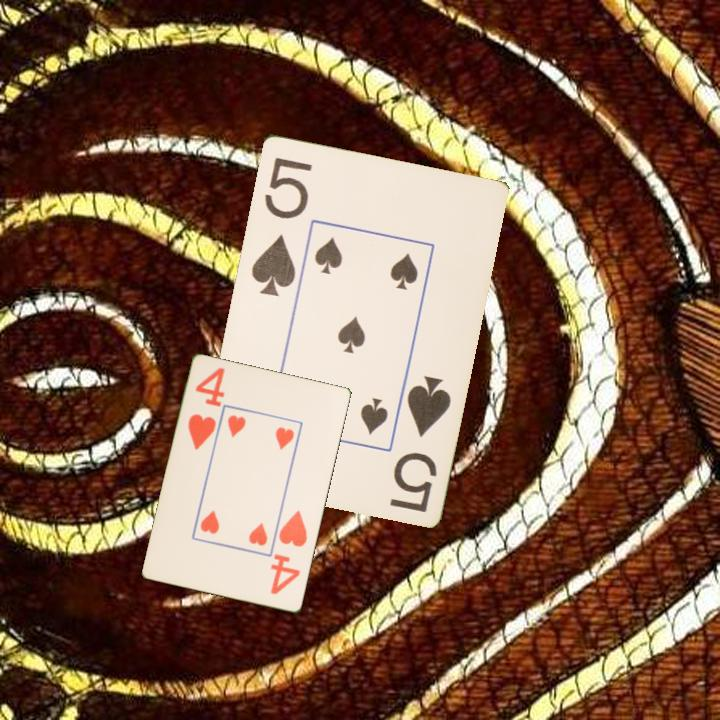4h: (184, 364, 228, 453), (267, 507, 310, 598)
5s: (247, 153, 315, 299), (386, 371, 454, 515)
